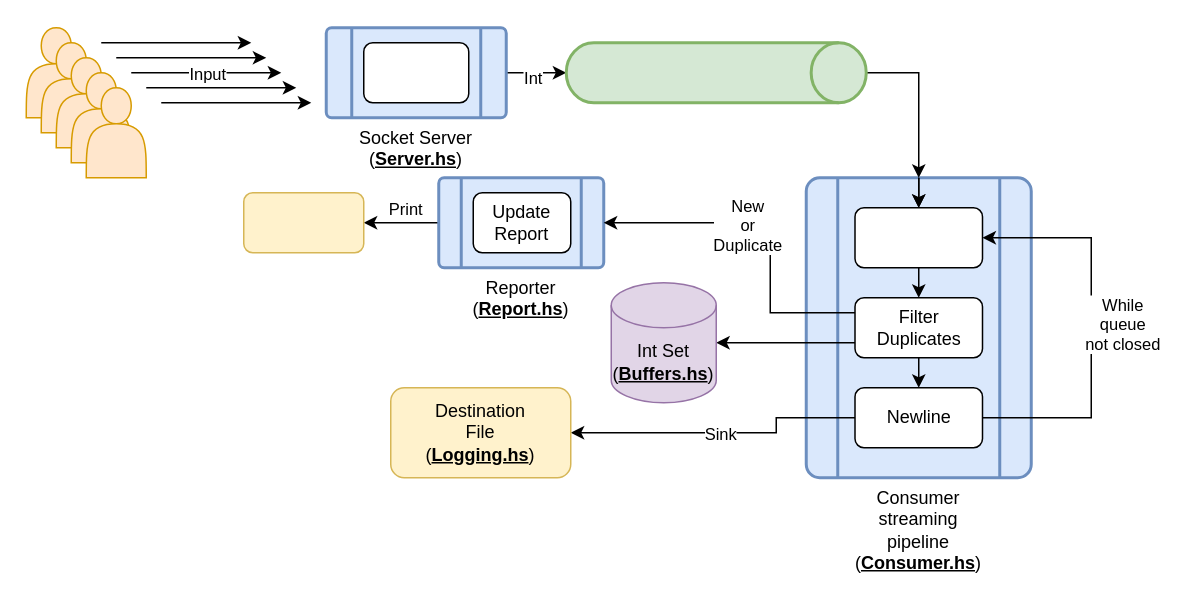
This 1185x600 diagram has some shape labels left out. The shapes that lost their labels are listed below. From the top down, each one's centre as x and y in pixels, then its label:
point (415, 72): Parsing ( Input.hs )
point (715, 72): Int Closeable Queue ( Buffers.hs )
point (303, 222): stdout
point (918, 237): Read Int
